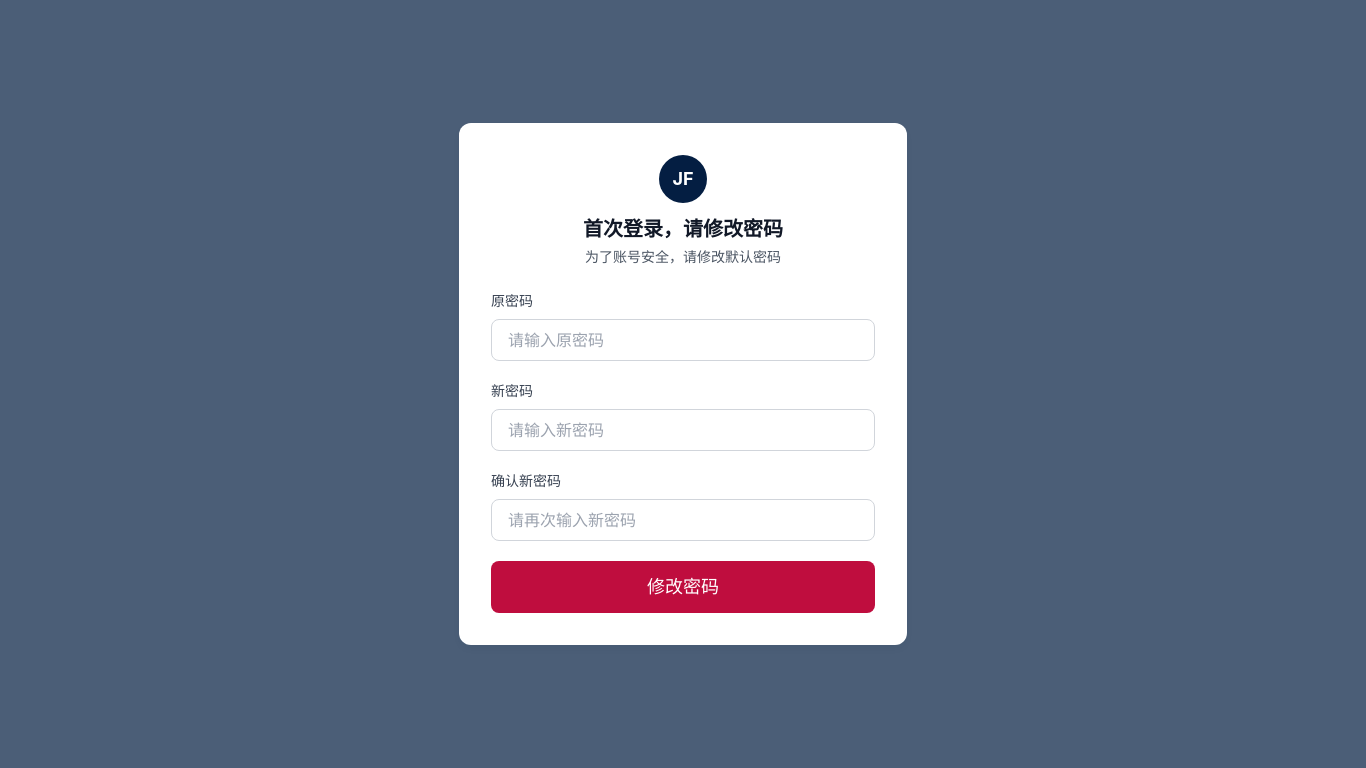
Test: LoginModal › validates password change fields
In the password field labelled "原密码": [683, 340] box [491,319,875,361], type "oldpass"
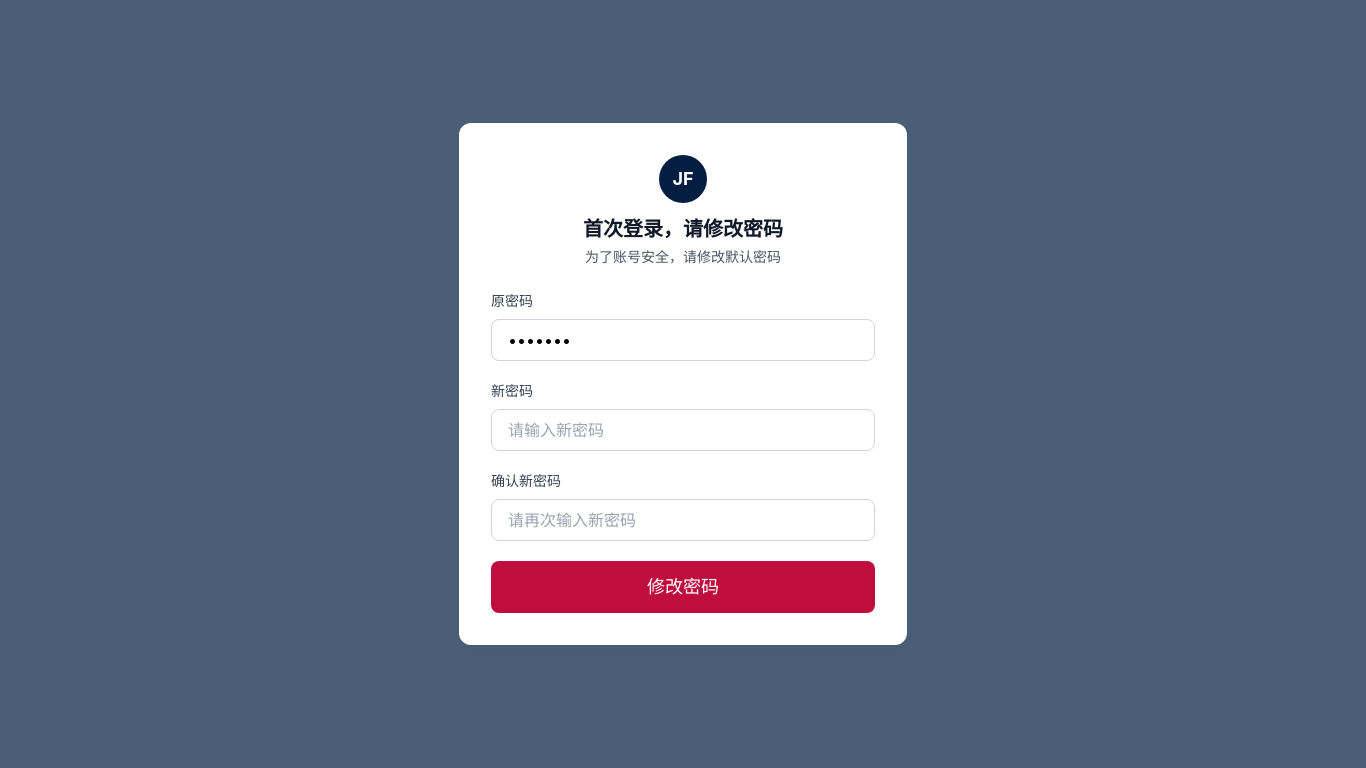
In the password field labelled "新密码": [683, 430] box [491,409,875,451], type "new"
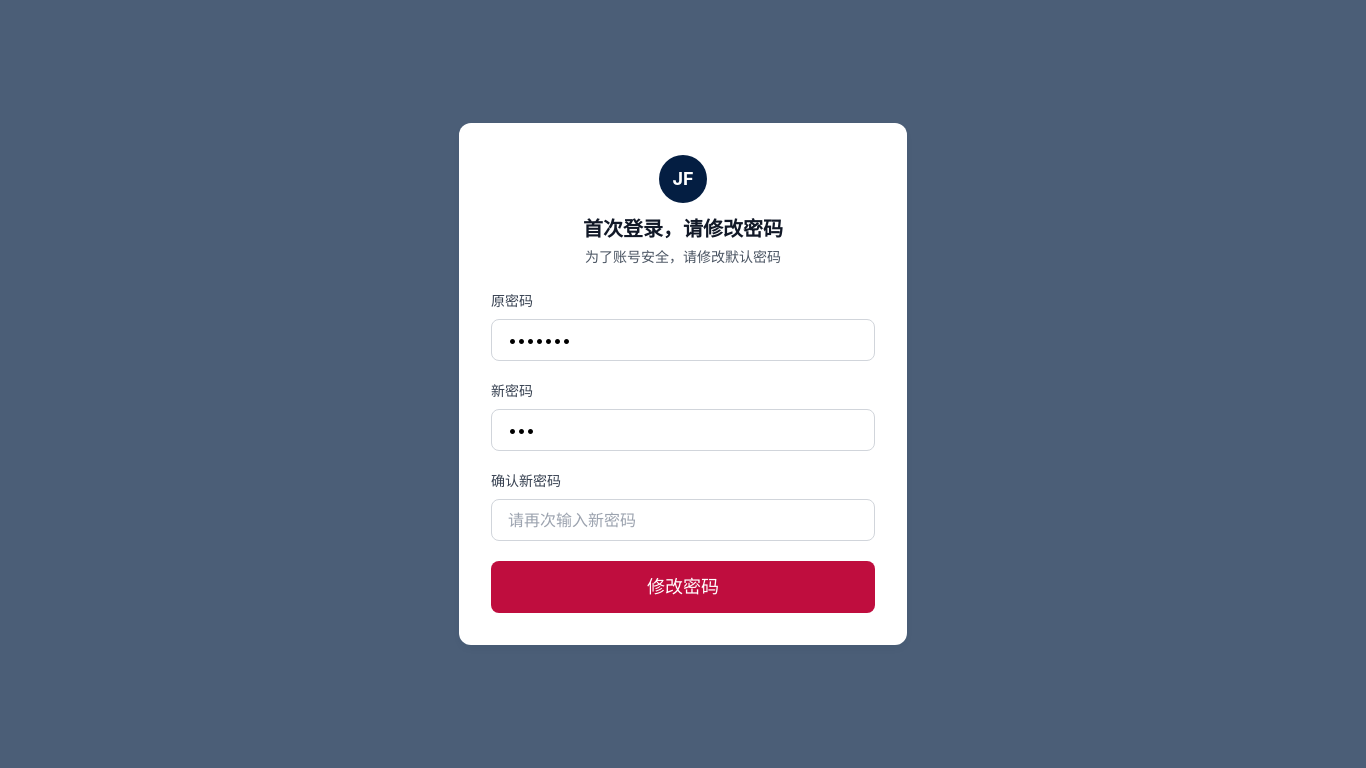
In the password field labelled "确认新密码": [683, 520] box [491,499,875,541], type "new"
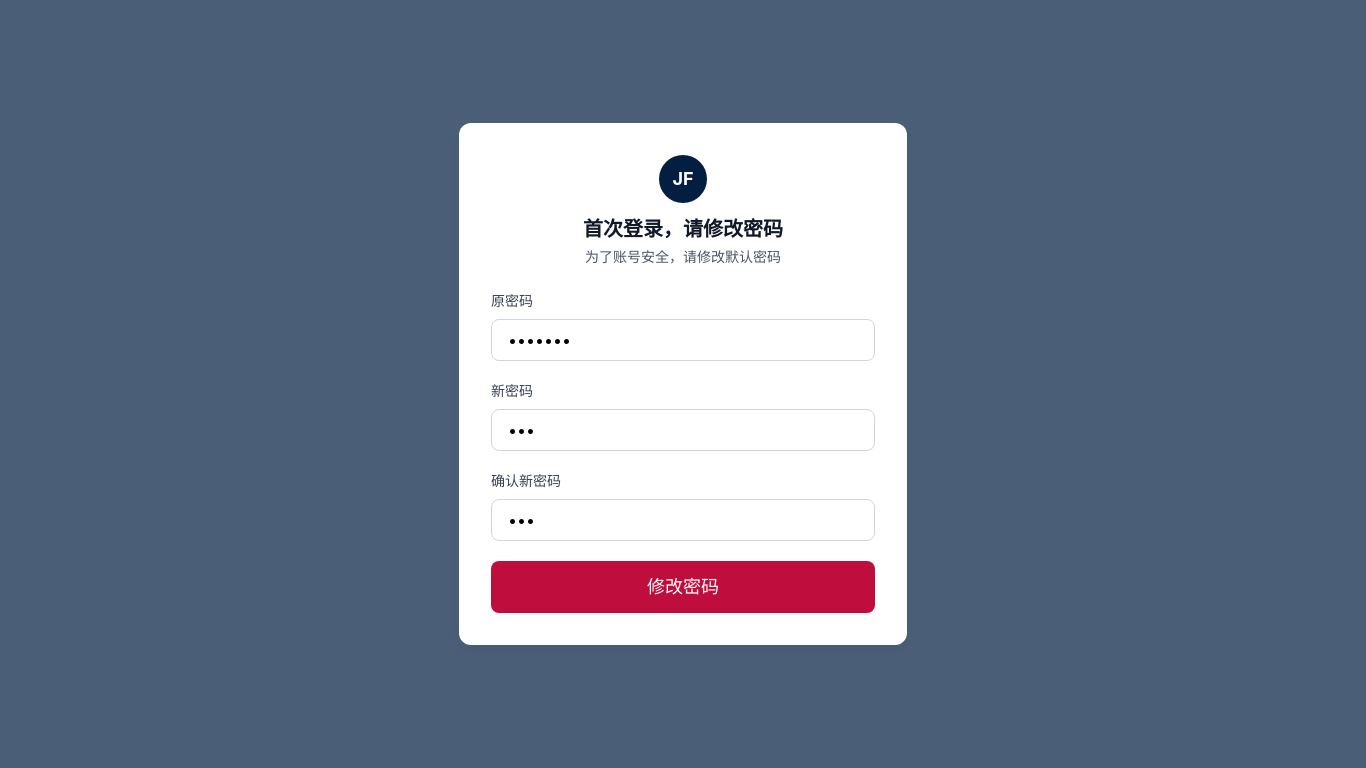
Click the button "修改密码": [683, 587] box [491,561,875,613]
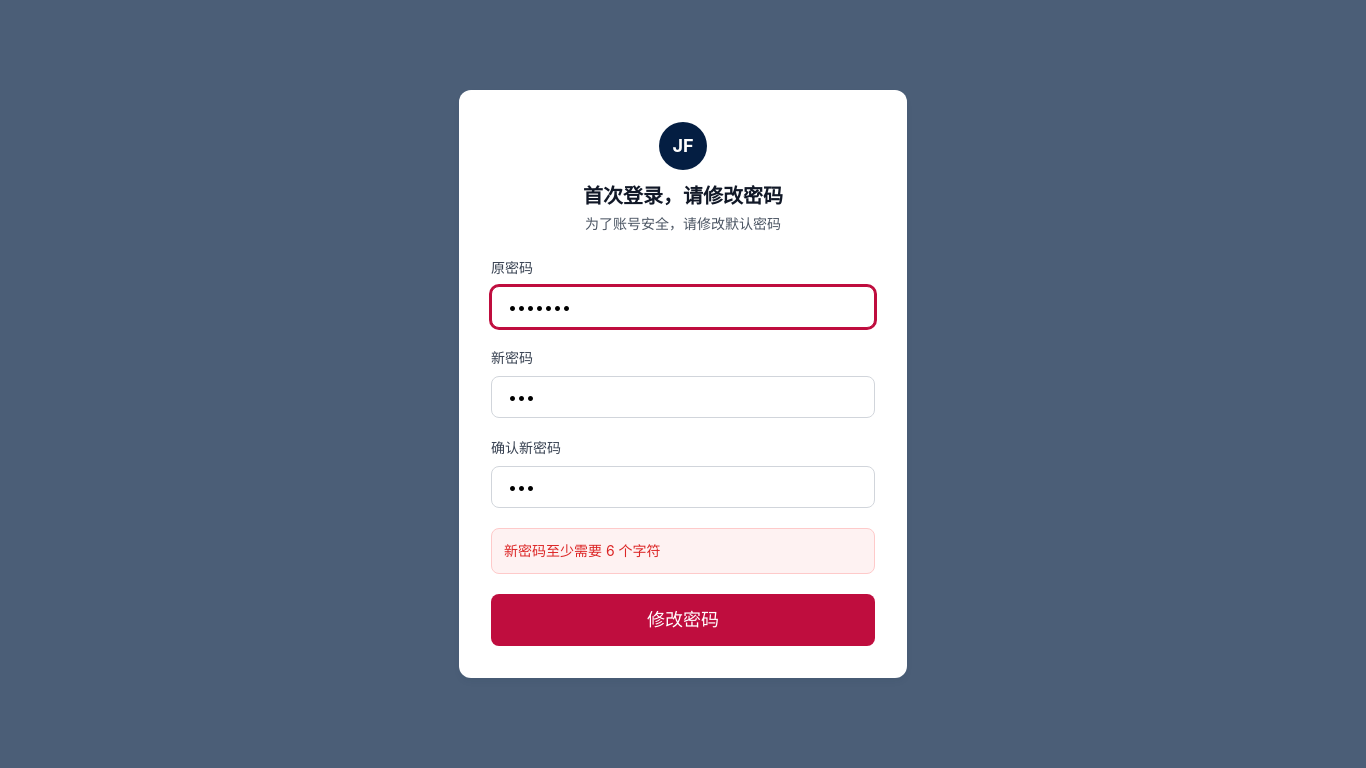
Expected: the text "新密码至少需要 6 个字符" is shown, [504,542,661,559]
